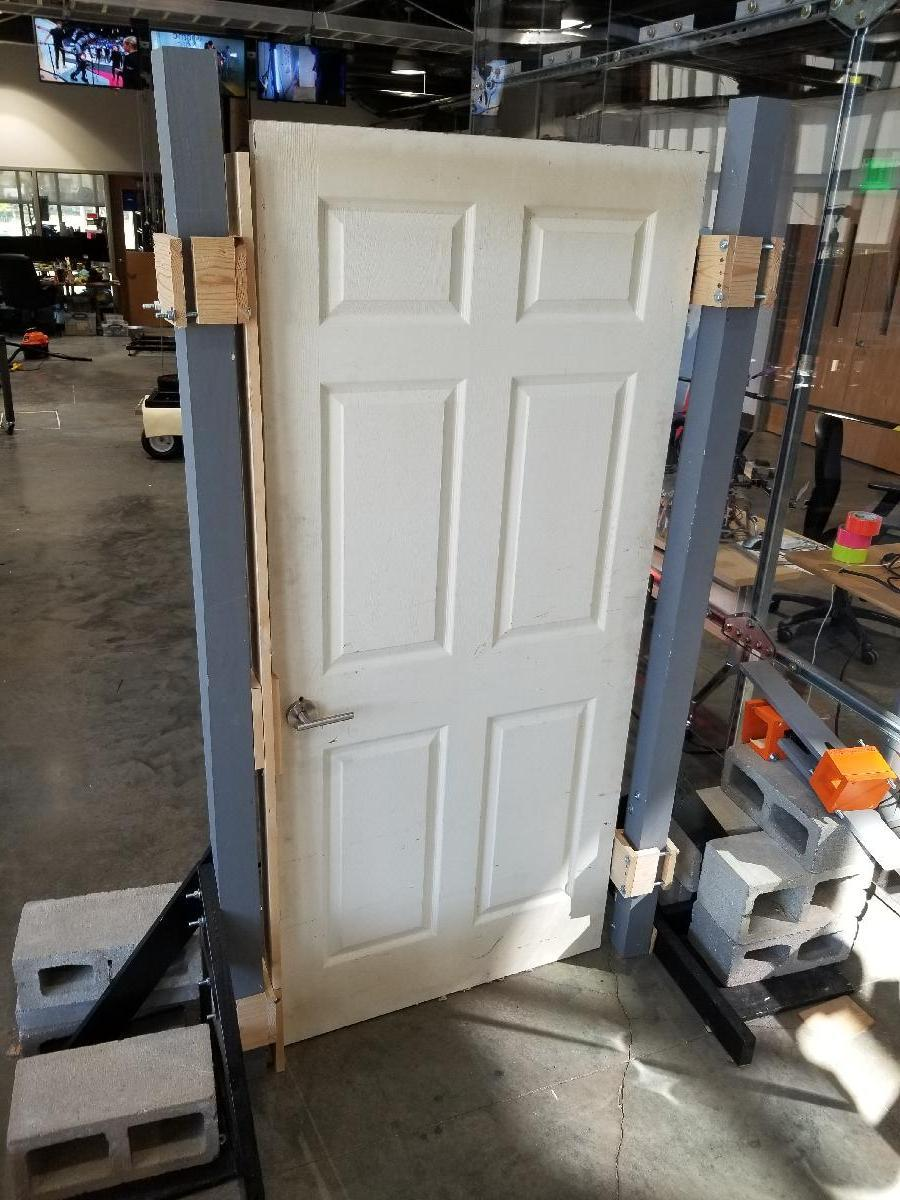door: (255, 136, 616, 1016)
handle: (285, 690, 359, 739)
